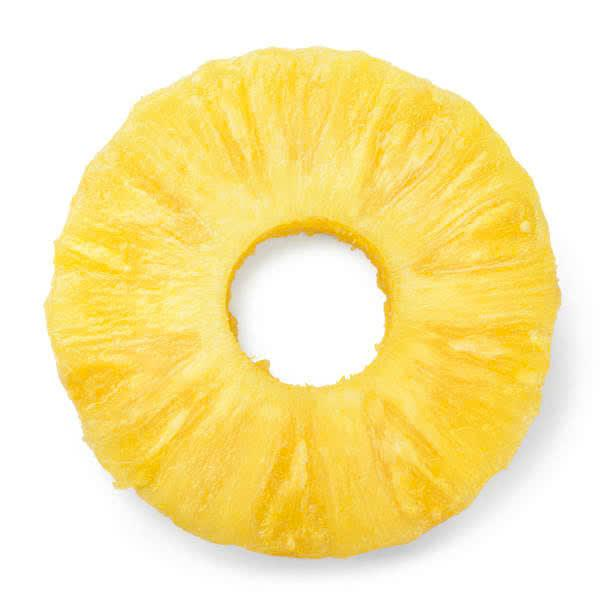pineapple: (34, 30, 573, 557)
